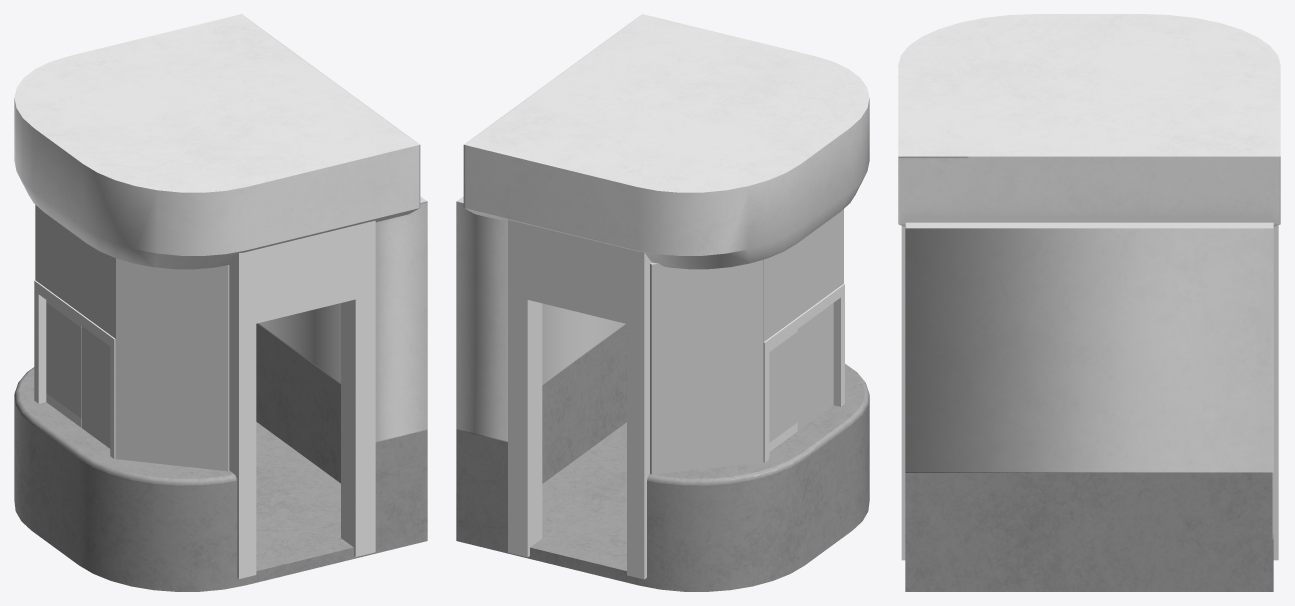
File: 인포스테이션.fbx
The picture shows the model from 3 angles, left to right: view 1: azimuth 30°, elevation 25°; view 2: azimuth 150°, elevation 25°; view 3: azimuth 270°, elevation 25°; orthographic projection. The views are drawn at different scales.
Parts seen in each view (by area): view 1: Cube.048, Cube.047, Cube, Cube.096, Cube.001; view 2: Cube.048, Cube.047, Cube.001, Cube.096, Cube; view 3: Cube.048.
Part boxes in pixels (x1,y1,x2,y2): Cube.048: (14, 14, 427, 591); Cube.047: (35, 205, 229, 471); Cube: (46, 300, 81, 427); Cube.096: (34, 280, 115, 458); Cube.001: (82, 326, 110, 448); Cube.048: (456, 14, 869, 591); Cube.047: (650, 209, 843, 474); Cube.001: (797, 303, 833, 430); Cube.096: (763, 284, 844, 462); Cube: (769, 329, 797, 451); Cube.048: (898, 14, 1280, 591).
Bounding box in the file's own units: 288 × 385 × 311.
